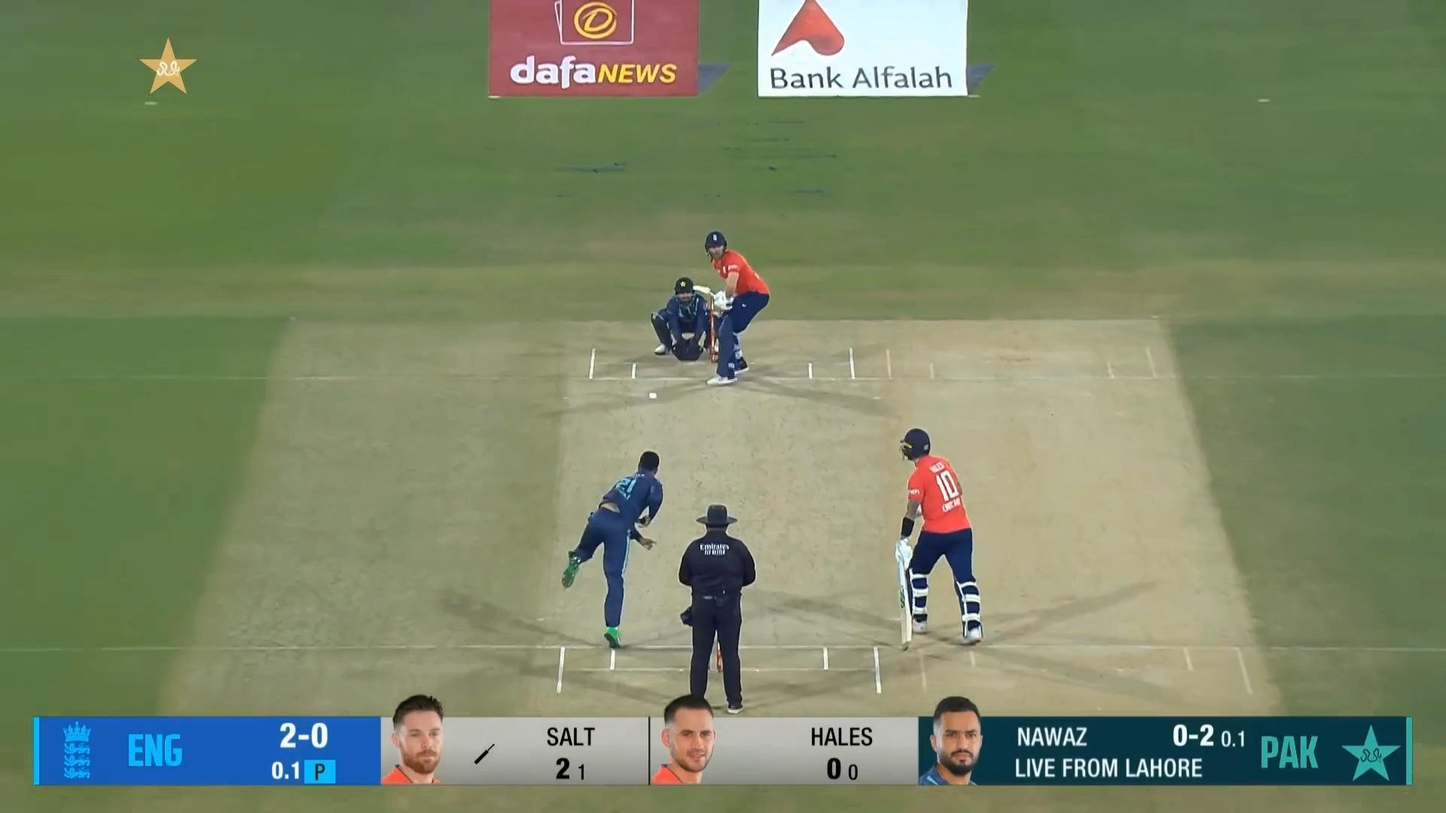BM 1: (692, 231, 770, 387)
BO: (560, 450, 664, 650)
